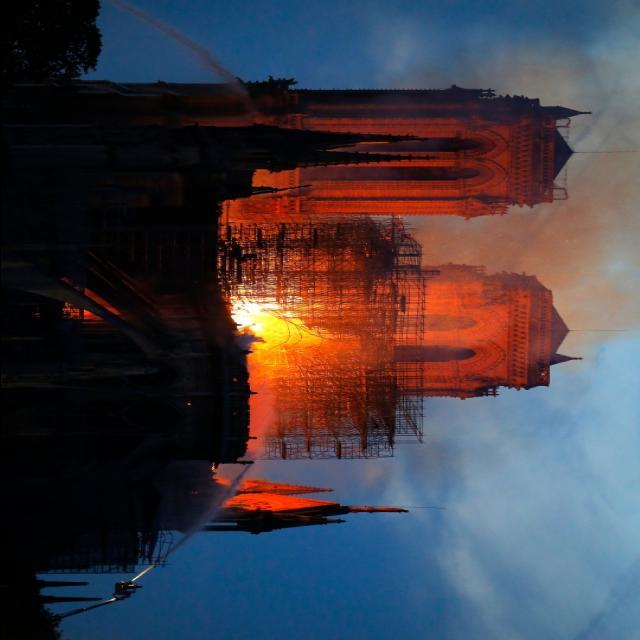Fire: (222, 286, 330, 362)
